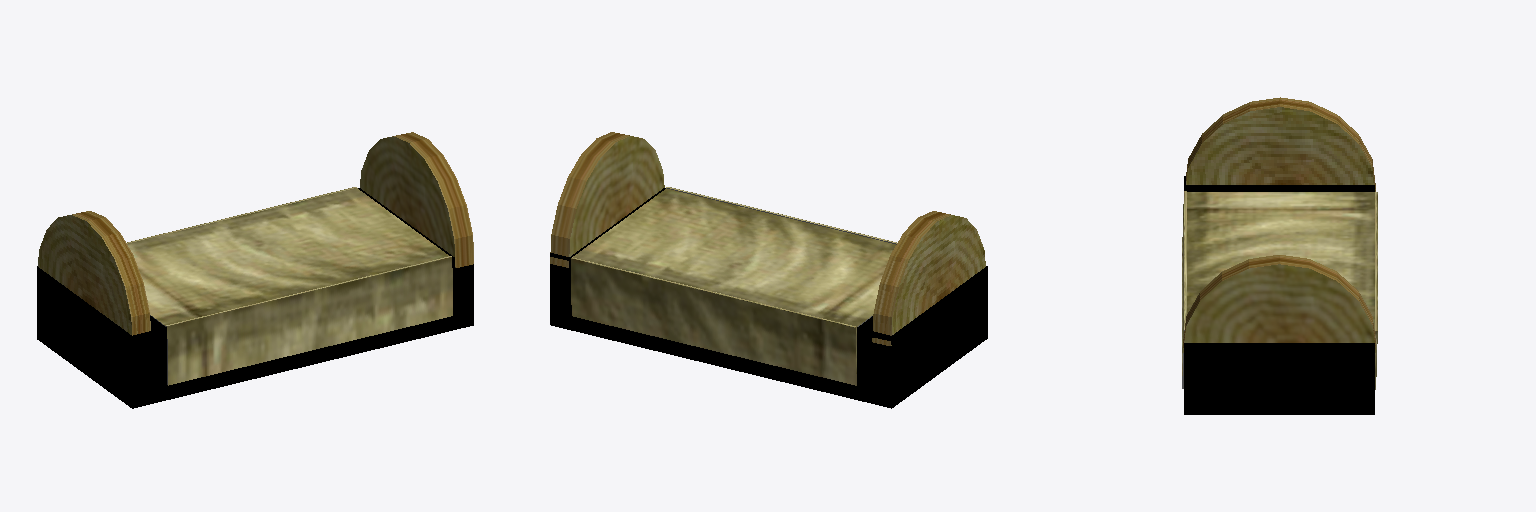
3 views of the same model, side by side, from view 1: azimuth 30°, elevation 25°; view 2: azimuth 150°, elevation 25°; view 3: azimuth 270°, elevation 25° (orthographic).
Visible parts, largest first — view 1: pCube2, pasted__pCube2 group3, pCube1, pasted__pCylinder1 group1, pCylinder1; view 2: pCube2, pasted__pasted__pCube2 pasted__group3 group4, pCube1, pasted__pCylinder1 group1, pCylinder1, pasted__pCube2 group3; view 3: pCube2, pCube1, pasted__pCylinder1 group1, pCylinder1, pasted__pCube2 group3.
Part boxes in pixels (left/top/right/bottom): pCube2: left=127, top=188, right=448, bottom=326; pasted__pCube2 group3: left=166, top=256, right=452, bottom=385; pCube1: left=37, top=188, right=473, bottom=408; pasted__pCylinder1 group1: left=360, top=132, right=473, bottom=267; pCylinder1: left=38, top=211, right=150, bottom=335; pCube2: left=573, top=188, right=895, bottom=326; pasted__pasted__pCube2 pasted__group3 group4: left=571, top=257, right=856, bottom=385; pCube1: left=550, top=188, right=987, bottom=408; pasted__pCylinder1 group1: left=550, top=132, right=664, bottom=267; pCylinder1: left=872, top=211, right=985, bottom=345; pasted__pCube2 group3: left=666, top=187, right=896, bottom=244; pCube2: left=1187, top=192, right=1374, bottom=329; pCube1: left=1184, top=176, right=1374, bottom=414; pasted__pCylinder1 group1: left=1183, top=255, right=1375, bottom=352; pCylinder1: left=1186, top=97, right=1375, bottom=191; pasted__pCube2 group3: left=1182, top=191, right=1186, bottom=388.
Size of the model in its own units: 4.96 by 2.1 by 2.45.
Materials: 9 (3 with a texture image).